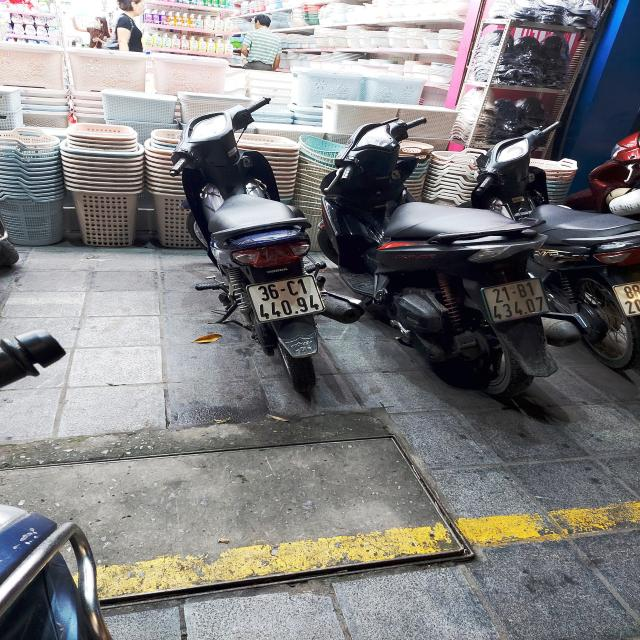license_plate: (243, 272, 331, 327), (477, 275, 556, 328)
